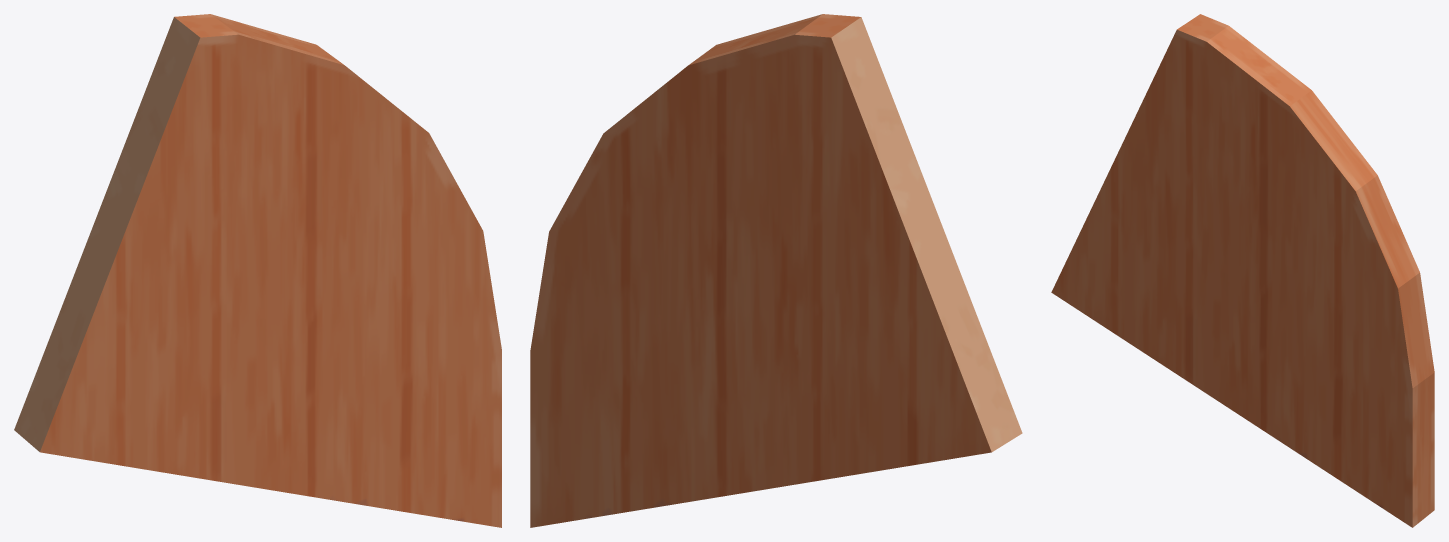
File: door2_wood_s01.fbx
The picture shows the model from 3 angles, left to right: view 1: azimuth 30°, elevation 25°; view 2: azimuth 150°, elevation 25°; view 3: azimuth 330°, elevation 25°; orthographic projection. The views are drawn at different scales.
Visible parts, largest first — view 1: door2_wood_s01; view 2: door2_wood_s01; view 3: door2_wood_s01.
Boxes of the visible parts, x1,y1,x2,y2 form: door2_wood_s01: [14, 14, 501, 527]; door2_wood_s01: [530, 14, 1022, 527]; door2_wood_s01: [1051, 14, 1434, 527].
Bounding box in the file's own units: 2.64 × 3.08 × 0.28.
